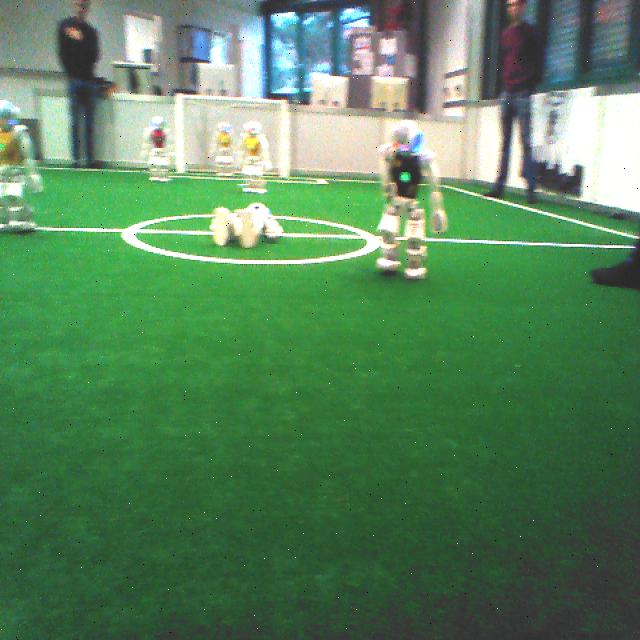goalpost: (173, 93, 186, 171), (278, 101, 291, 175)
